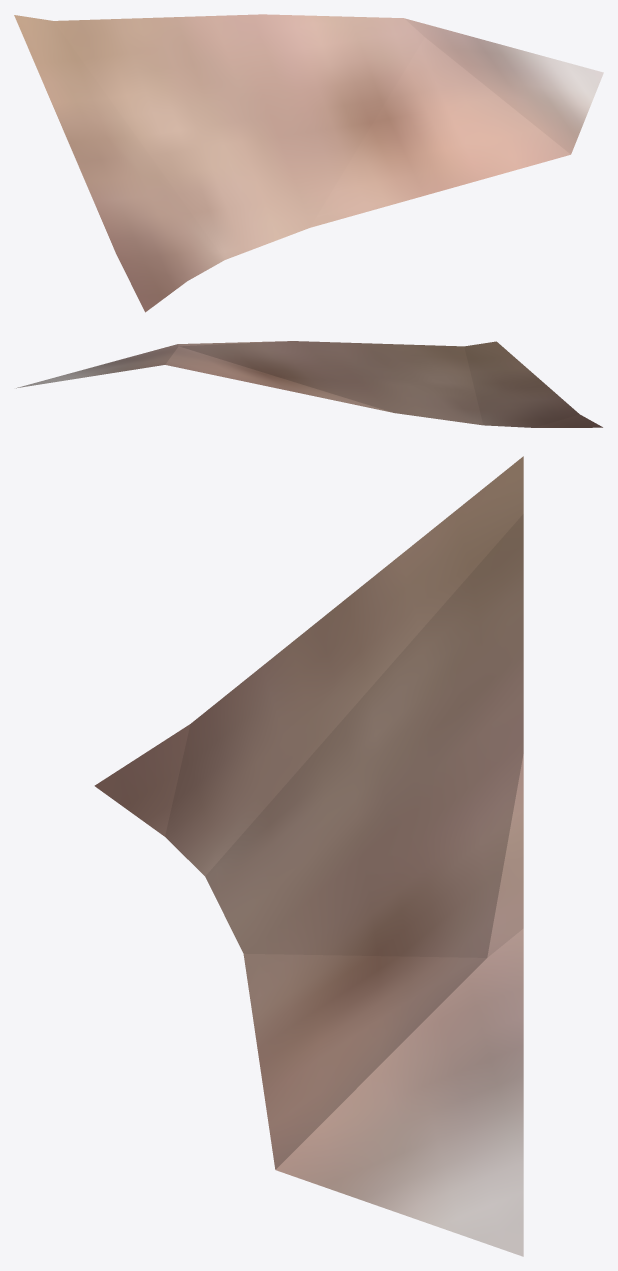
3 renders of one model, top to bottom at view 1: azimuth 30°, elevation 25°; view 2: azimuth 150°, elevation 25°; view 3: azimuth 270°, elevation 25°, orthographic. The views are drawn at different scales.
Bounding box in the file's own units: 0.0976 × 0.0319 × 0.0376.
Materials: 1 (1 with a texture image).
